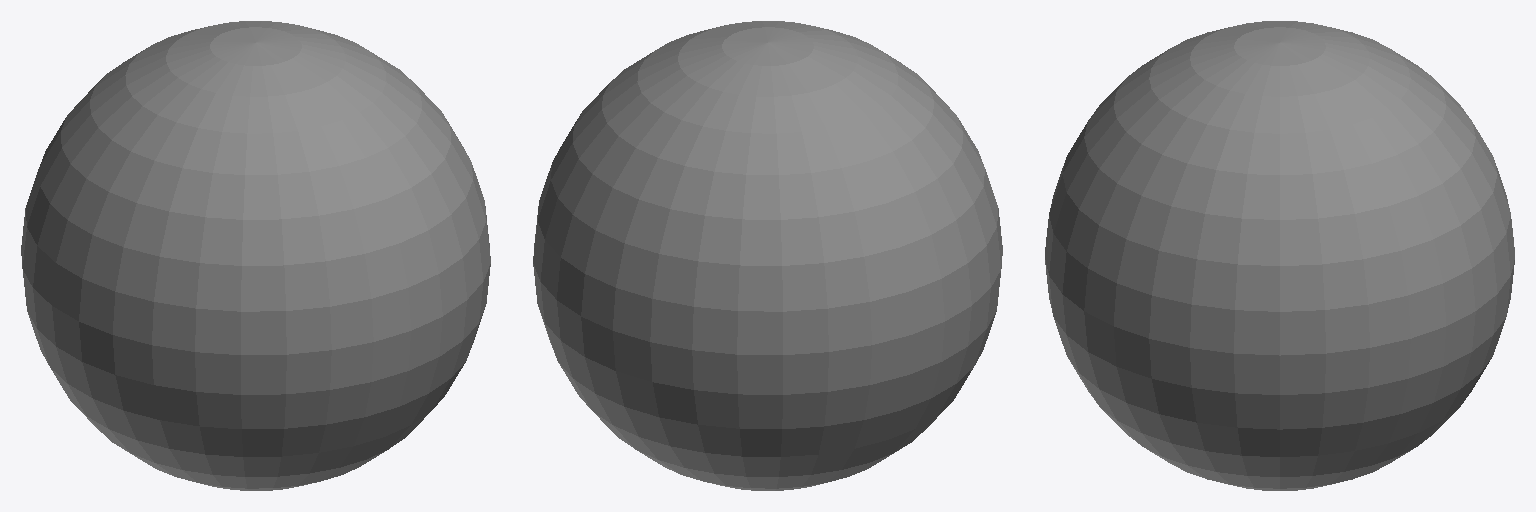
File: skydome01.obj
The picture shows the model from 3 angles: view 1: azimuth 30°, elevation 25°; view 2: azimuth 150°, elevation 25°; view 3: azimuth 270°, elevation 25°; orthographic projection.
Parts seen in each view (by area): view 1: Sphere001; view 2: Sphere001; view 3: Sphere001.
Boxes of the visible parts, x1=… form: Sphere001: x1=21, y1=21, x2=490, y2=490; Sphere001: x1=533, y1=21, x2=1002, y2=490; Sphere001: x1=1045, y1=21, x2=1514, y2=490.
Bounding box in the file's own units: 389 × 389 × 389.